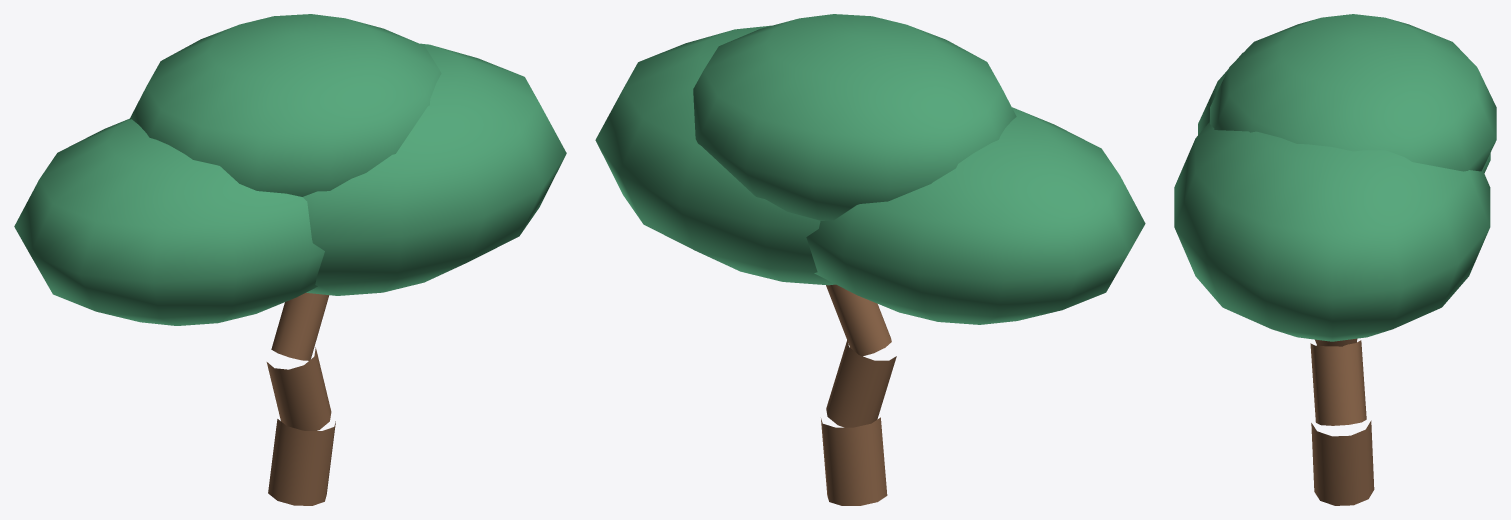
Rendered from rain-tree.glb.
3 renders of one model, left to right at view 1: azimuth 30°, elevation 25°; view 2: azimuth 150°, elevation 25°; view 3: azimuth 270°, elevation 25°, orthographic. The views are drawn at different scales.
Parts seen in each view (by area): view 1: canopy_lobes, curved_trunk; view 2: canopy_lobes, curved_trunk; view 3: canopy_lobes, curved_trunk.
Boxes of the visible parts, x1,y1,x2,y2 form: canopy_lobes: [14, 14, 566, 325]; curved_trunk: [266, 293, 335, 505]; canopy_lobes: [595, 14, 1145, 324]; curved_trunk: [821, 284, 896, 505]; canopy_lobes: [1174, 14, 1496, 341]; curved_trunk: [1310, 338, 1374, 505].
Bounding box in the file's own units: 9.8 × 8.36 × 5.37.
